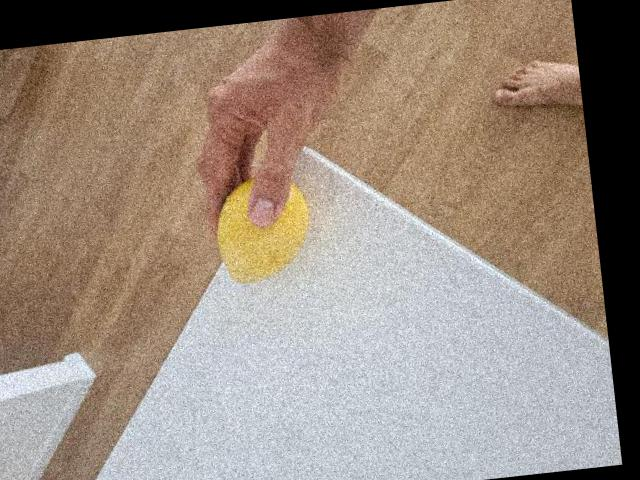lemon: (210, 172, 317, 290)
